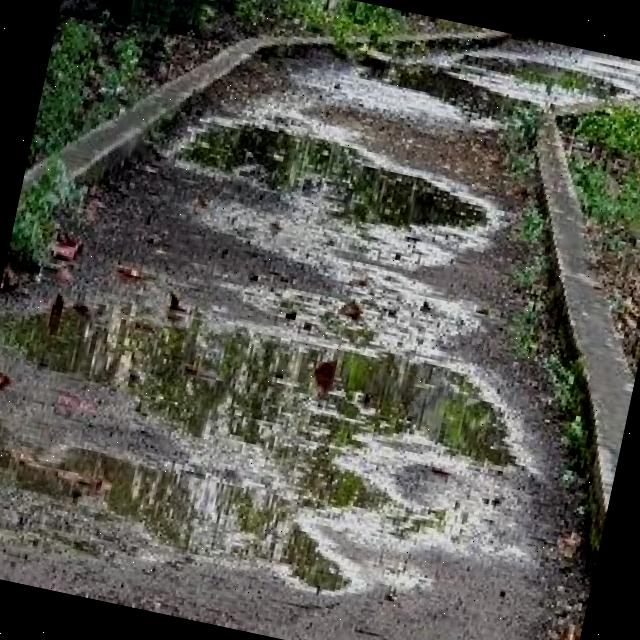stagnation: (168, 101, 509, 268)
